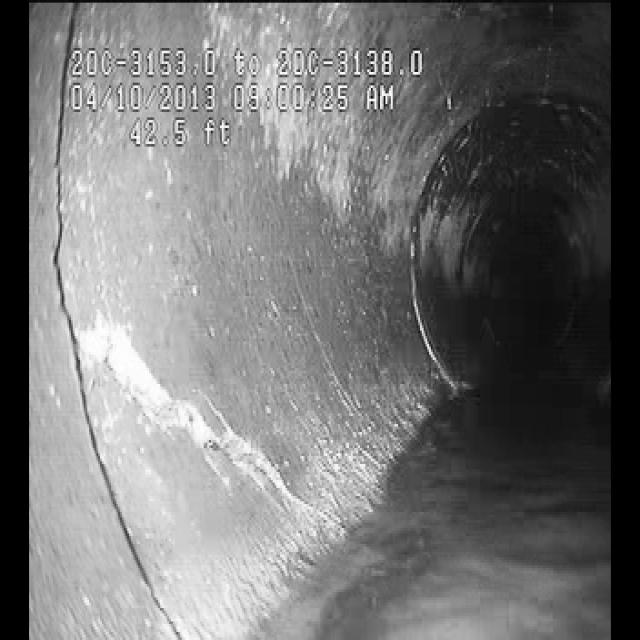Fracture: (88, 287, 290, 554)
